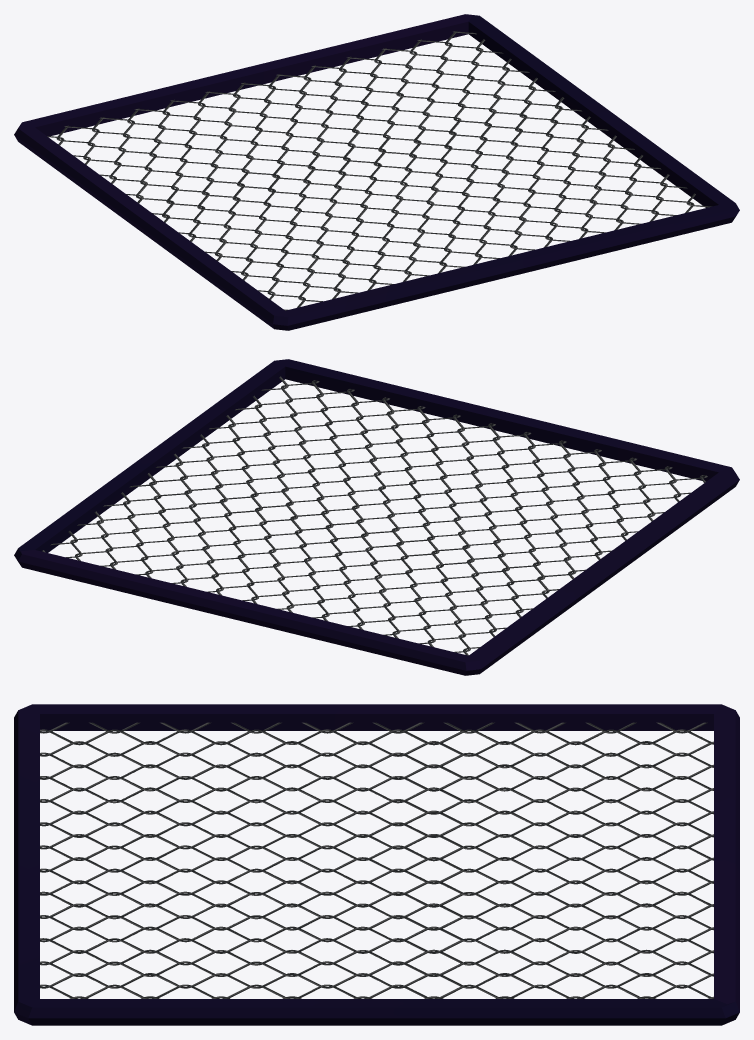
The model's file is Lava_Chainlink.fbx.
3 renders of one model, top to bottom at view 1: azimuth 30°, elevation 25°; view 2: azimuth 150°, elevation 25°; view 3: azimuth 270°, elevation 25°, orthographic. The views are drawn at different scales.
Parts seen in each view (by area): view 1: Lava_Chainlink; view 2: Lava_Chainlink; view 3: Lava_Chainlink.
Boxes of the visible parts, x1,y1,x2,y2 form: Lava_Chainlink: [14, 14, 739, 330]; Lava_Chainlink: [14, 359, 739, 675]; Lava_Chainlink: [14, 704, 739, 1025].
Size of the model in its own units: 1817 by 50.08 by 1817.
